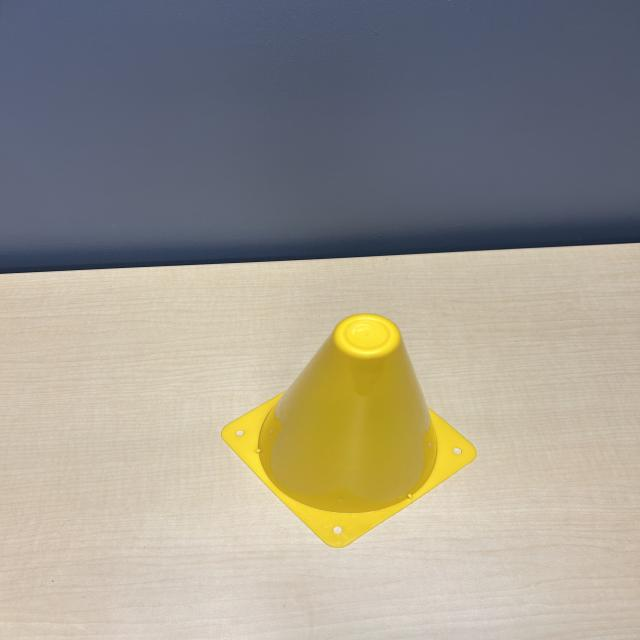yellow cone: (216, 308, 478, 553)
